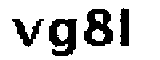8: (84, 5, 115, 49)
g: (48, 18, 81, 59)
l: (117, 4, 137, 51)
v: (8, 14, 43, 46)
